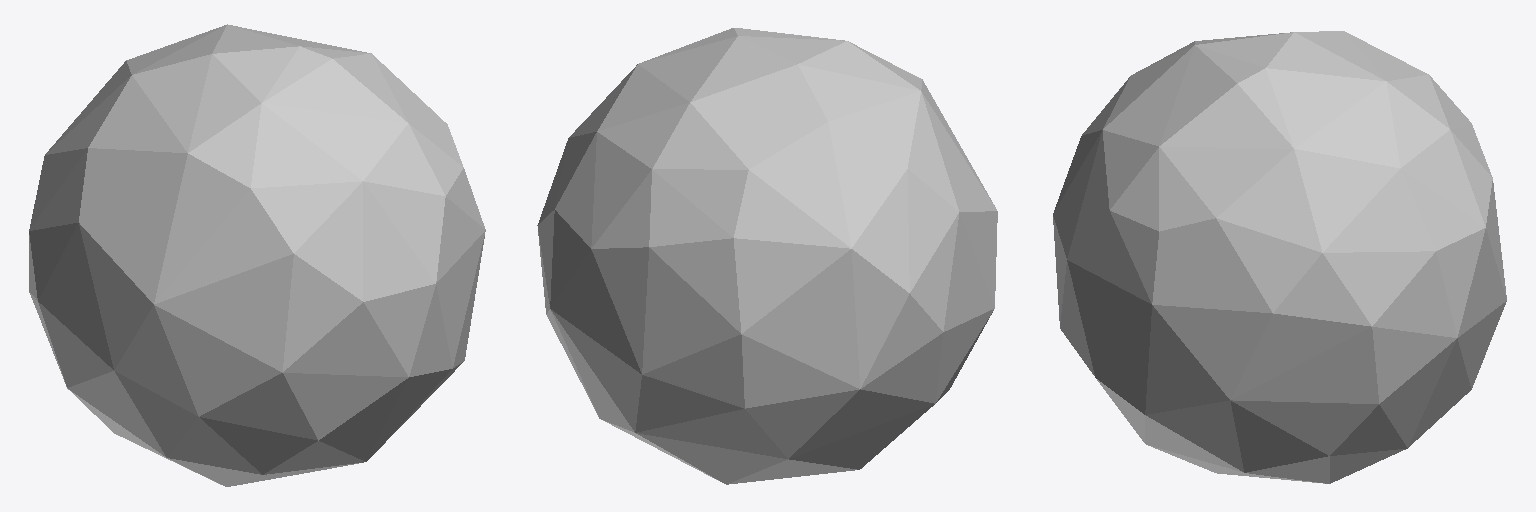
File: pb_sphere_vhacd.obj
3 views of the same model, side by side, from view 1: azimuth 30°, elevation 25°; view 2: azimuth 150°, elevation 25°; view 3: azimuth 270°, elevation 25° (orthographic).
Visible parts, largest first — view 1: convex_0; view 2: convex_0; view 3: convex_0.
Part boxes in pixels (bbox=[...]): convex_0: bbox=[29, 24, 485, 486]; convex_0: bbox=[537, 28, 997, 484]; convex_0: bbox=[1053, 31, 1506, 483].
Size of the model in its own units: 2.03 by 2.03 by 2.03.